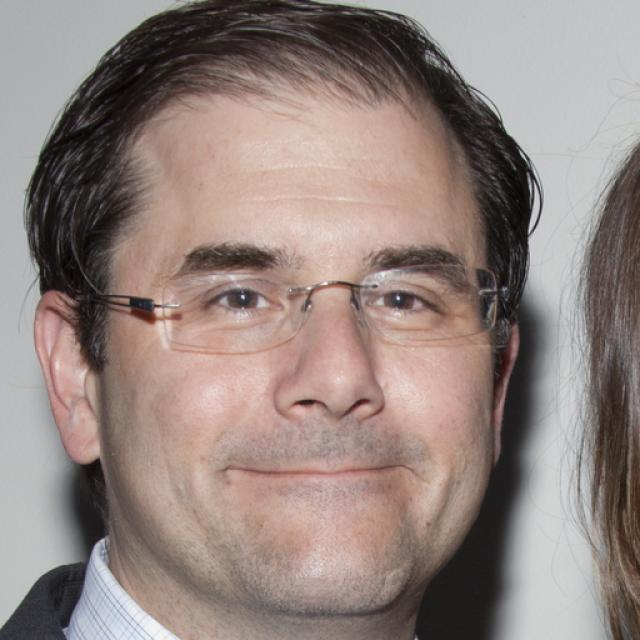happy: (96, 77, 502, 628)
